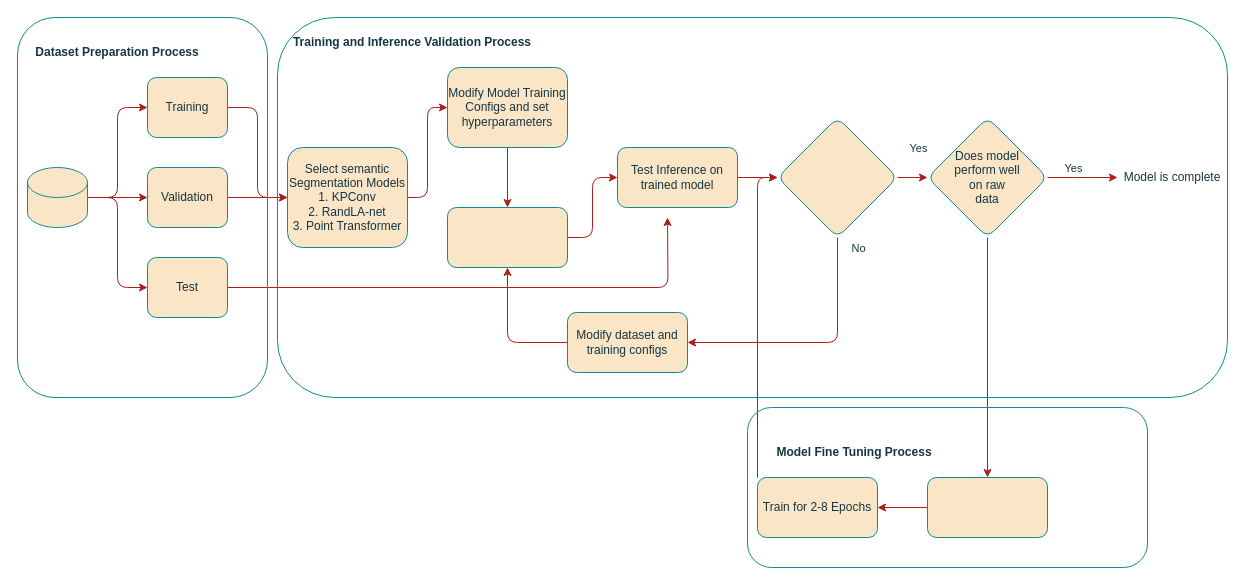
Some shapes in this 1255 by 585 pixel diagram are drawn without their labels. The shapes that lost their labels are listed below. From the top down, each one's centre as x and y in pixels, then its label:
the point at 57,197: Dataset
the point at 837,177: Does model perform well on trained data
the point at 507,237: Train Selected Model for 200-400 Epochs
the point at 987,507: Finetune Classweights and model hyperparameters
